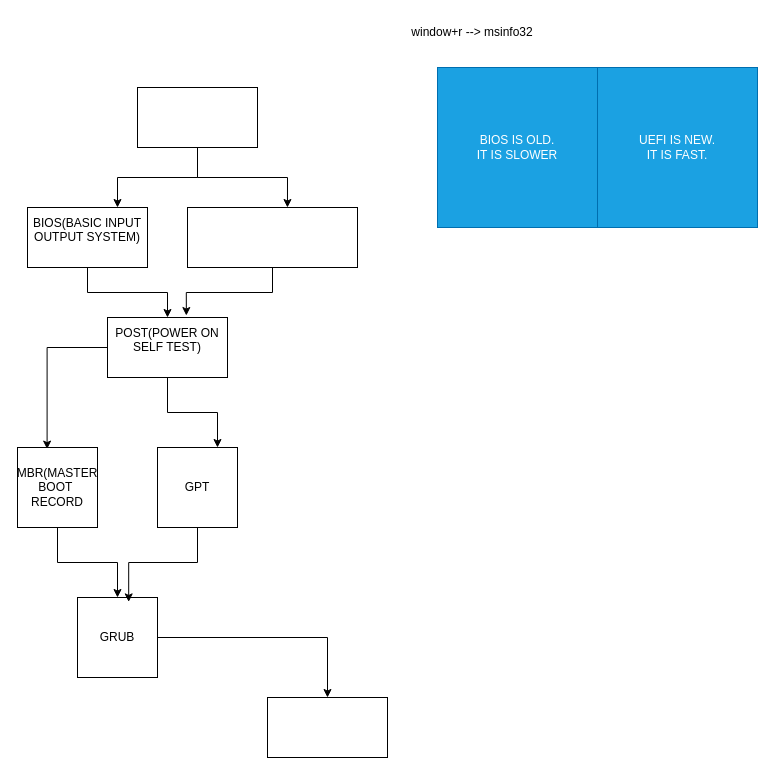
The diagram is 775 pixels wide and 775 high, and some of its shapes have lost their labels. The centre of each missing label's shape, as x and y in pixels:
OS: pixel 327 727
POWER ON: pixel 197 117
UEFI(UNIFIED EXTINSIBLE FIRMWARE INTERFACE: pixel 272 237
